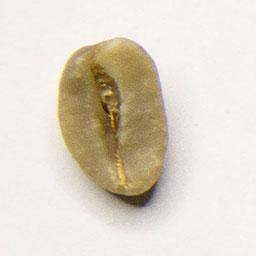longberry: (52, 33, 171, 203)
